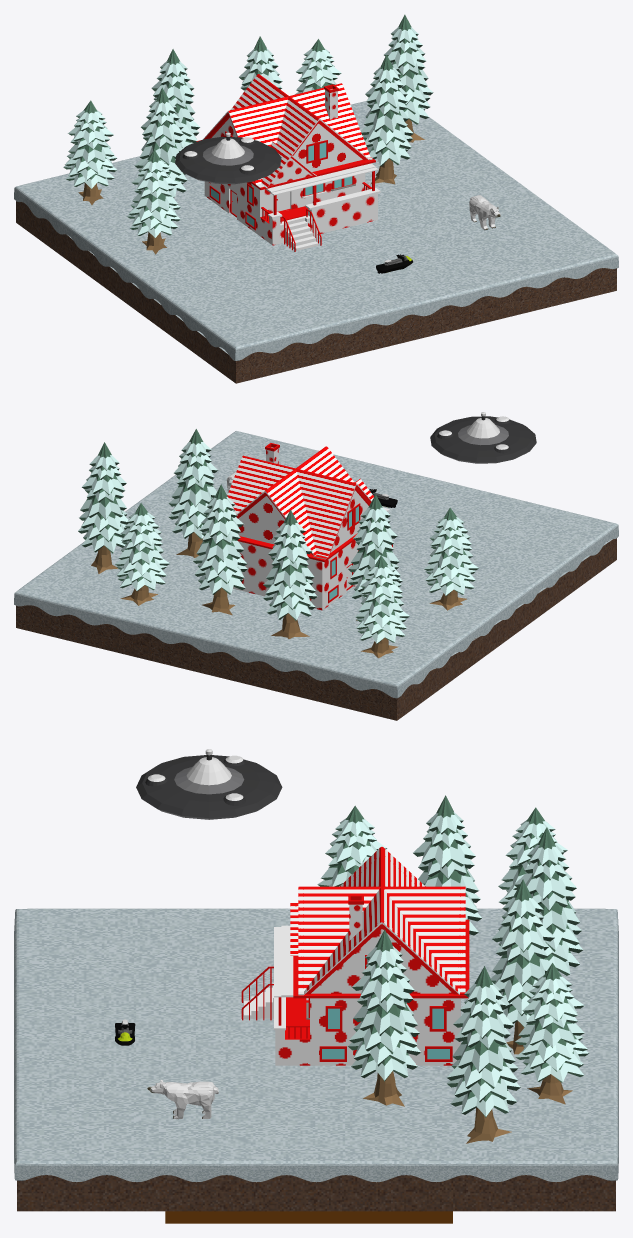
The picture shows the model from 3 angles, top to bottom: view 1: azimuth 30°, elevation 25°; view 2: azimuth 150°, elevation 25°; view 3: azimuth 270°, elevation 25°; orthographic projection. The views are drawn at different scales.
Visible parts, largest first — view 1: Cube.003, Cube.196, OBJRANDOM_UFO, ANIMAL_OSO_POLAR; view 2: Cube.003, Cube.196, OBJRANDOM_UFO; view 3: Cube.003, Cube.196, OBJRANDOM_UFO, UNDERGROUND_ART_PIECE_VAN_GOGH, ANIMAL_OSO_POLAR.
Boxes of the visible parts, x1,y1,x2,y2 form: Cube.003: (14, 14, 618, 383); Cube.196: (196, 74, 380, 251); OBJRANDOM_UFO: (175, 132, 281, 184); ANIMAL_OSO_POLAR: (469, 195, 500, 230); Cube.003: (14, 429, 618, 720); Cube.196: (227, 443, 392, 610); OBJRANDOM_UFO: (430, 412, 536, 463); Cube.003: (14, 795, 618, 1211); Cube.196: (241, 846, 469, 1065); OBJRANDOM_UFO: (136, 749, 282, 819); UNDERGROUND_ART_PIECE_VAN_GOGH: (165, 1211, 452, 1223); ANIMAL_OSO_POLAR: (147, 1079, 218, 1119).
Bounding box in the file's own units: 4040 × 2049 × 4040.
Materials: 24 (5 with a texture image).
